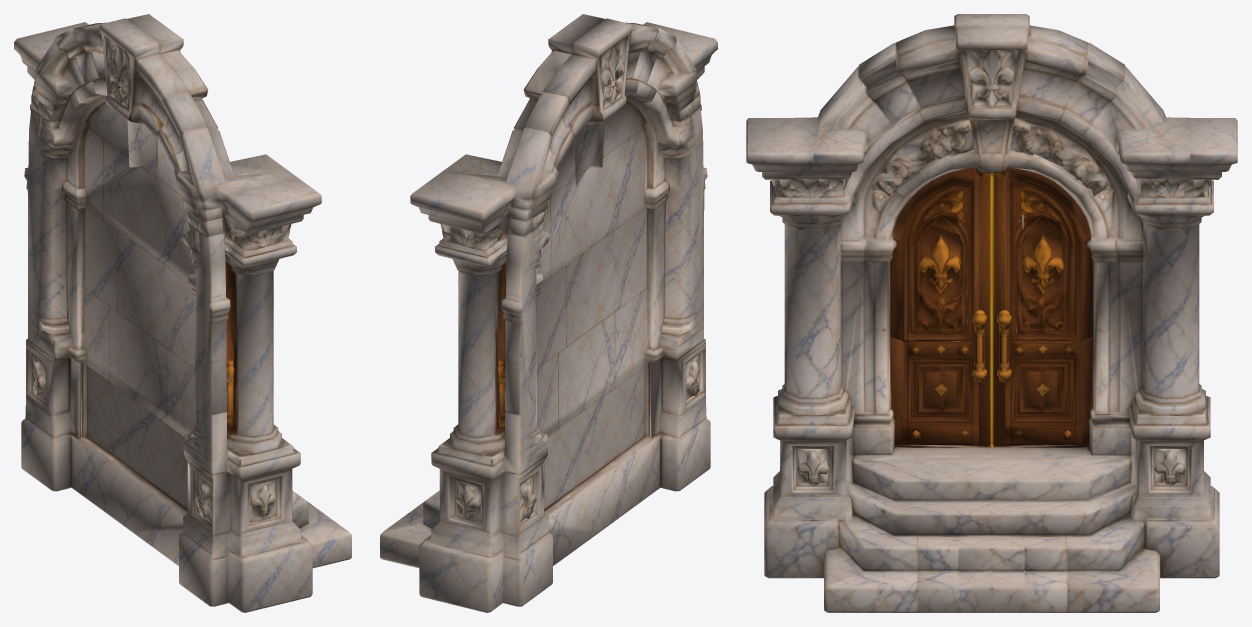
The model's file is SM_Env_Portal.fbx.
The picture shows the model from 3 angles, left to right: view 1: azimuth 30°, elevation 25°; view 2: azimuth 150°, elevation 25°; view 3: azimuth 270°, elevation 25°; orthographic projection. The views are drawn at different scales.
Visible parts, largest first — view 1: SM_Env_Portal; view 2: SM_Env_Portal; view 3: SM_Env_Portal.
Boxes of the visible parts, x1,y1,x2,y2 form: SM_Env_Portal: (14,14,351,612); SM_Env_Portal: (380,14,717,612); SM_Env_Portal: (746,14,1237,612).
Bounding box in the file's own units: 49.61 × 128 × 150.
Materials: 1 (1 with a texture image).
